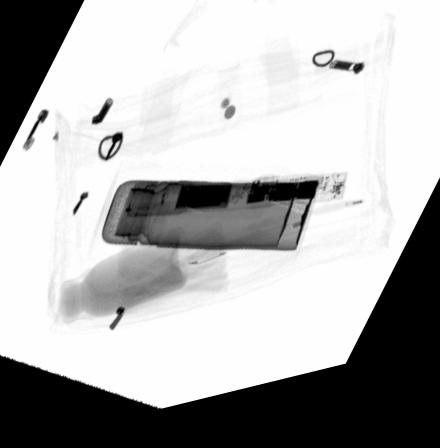Baton: (121, 186, 349, 226)
